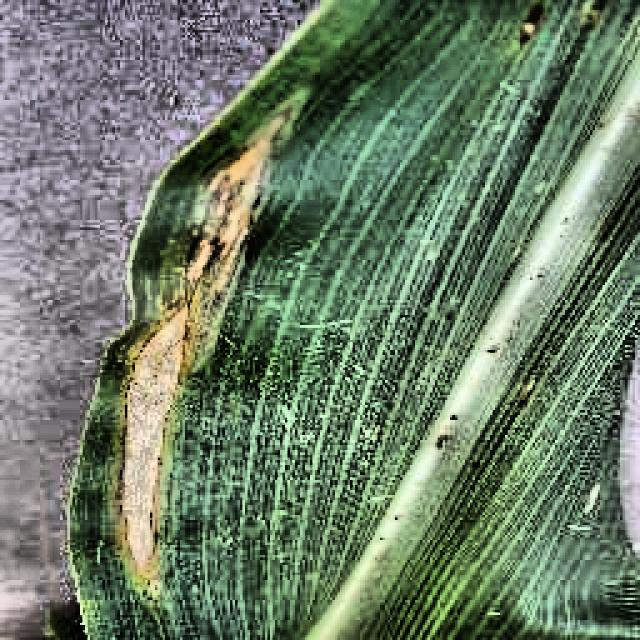blight: (86, 8, 640, 639)
